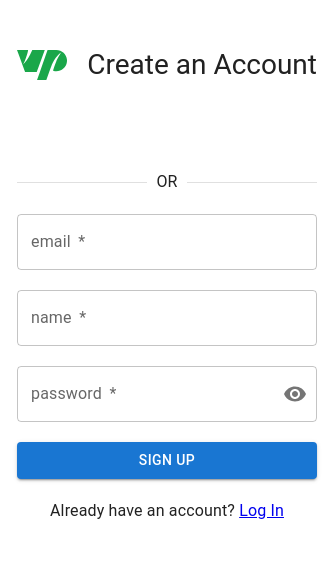
Scenario: mocks unsuccessful Signup process
The image size is (335, 584).
Type "example@email.com" into the field labelled "email *". click: (167, 242)
box: [17,214,317,270]
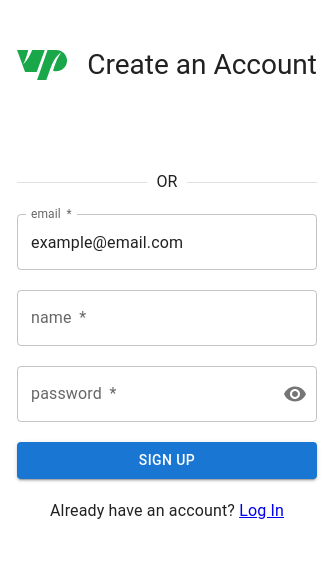
Type "Test User" into the field labelled "name *". click: (167, 318)
box: [17,290,317,346]
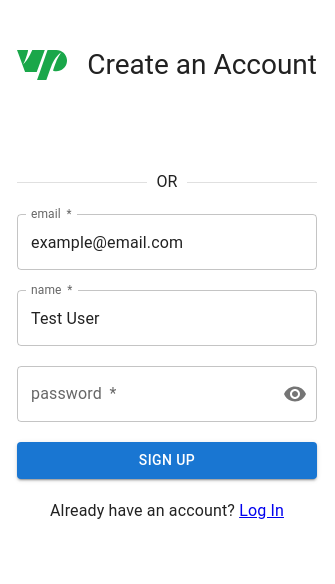
Type "password" into the password field labelled "password *". click: (142, 394)
box: [17,366,267,422]
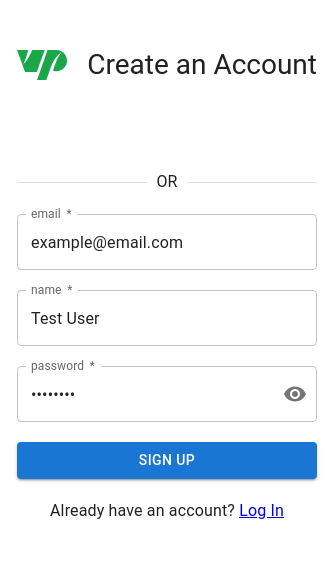
Click the button labelled "sign up". click: (167, 460)
box: [17,442,317,478]
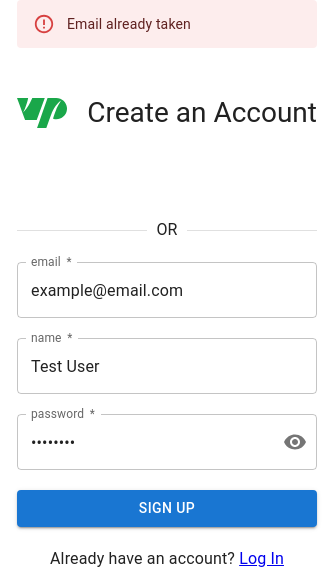
Check: the message named "sign up error" is shown, box [17,0,317,48]
